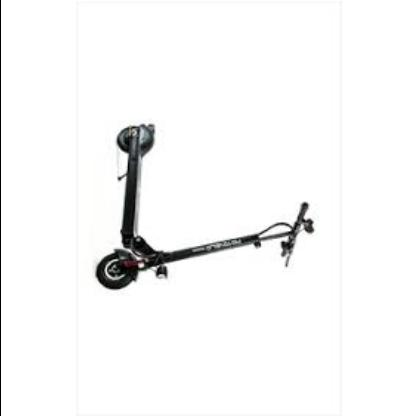bike: (95, 123, 316, 290)
